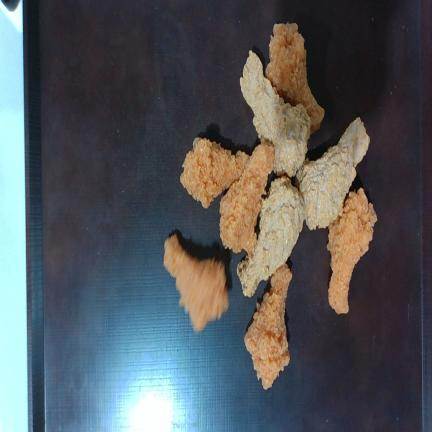chicken: (240, 51, 310, 176), (297, 118, 370, 229), (237, 176, 304, 296), (266, 24, 324, 133), (164, 234, 228, 332), (327, 188, 377, 313), (244, 263, 292, 389), (220, 143, 274, 253), (180, 137, 249, 208)
